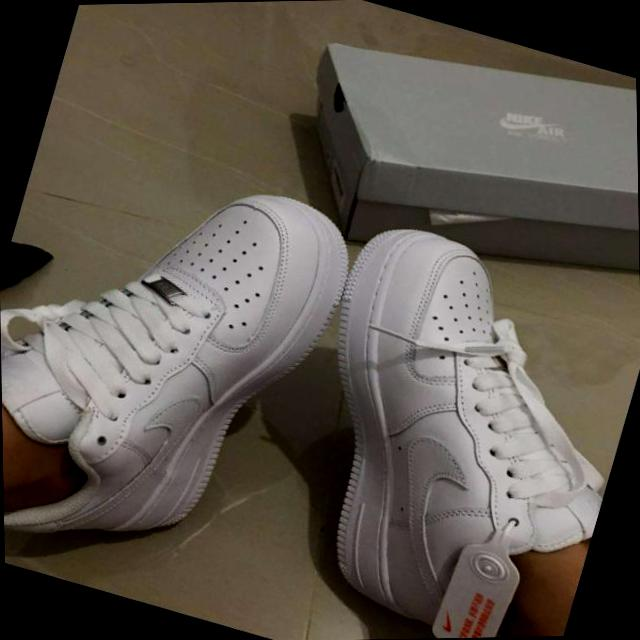nike_original_airforce: (0, 119, 373, 610), (254, 206, 640, 640)
